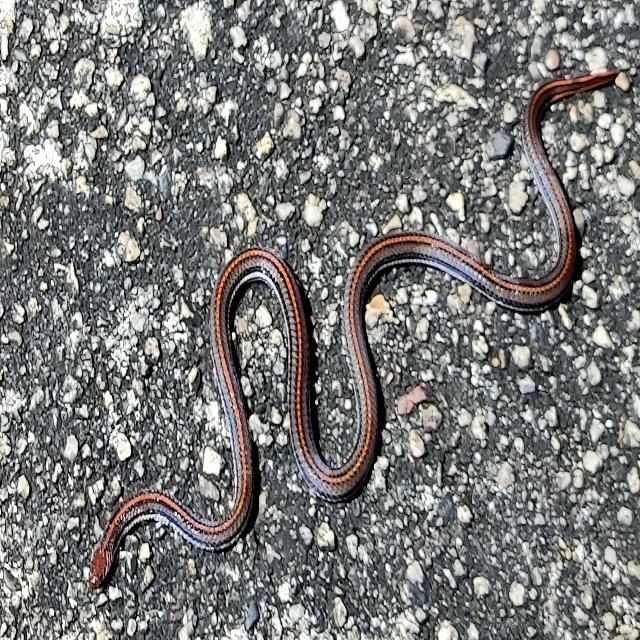Calliophis intestinalis: (89, 71, 617, 588)
